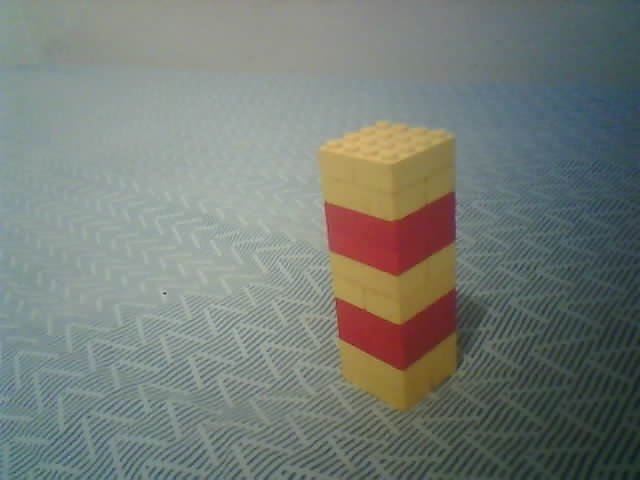lego: (317, 118, 457, 413)
